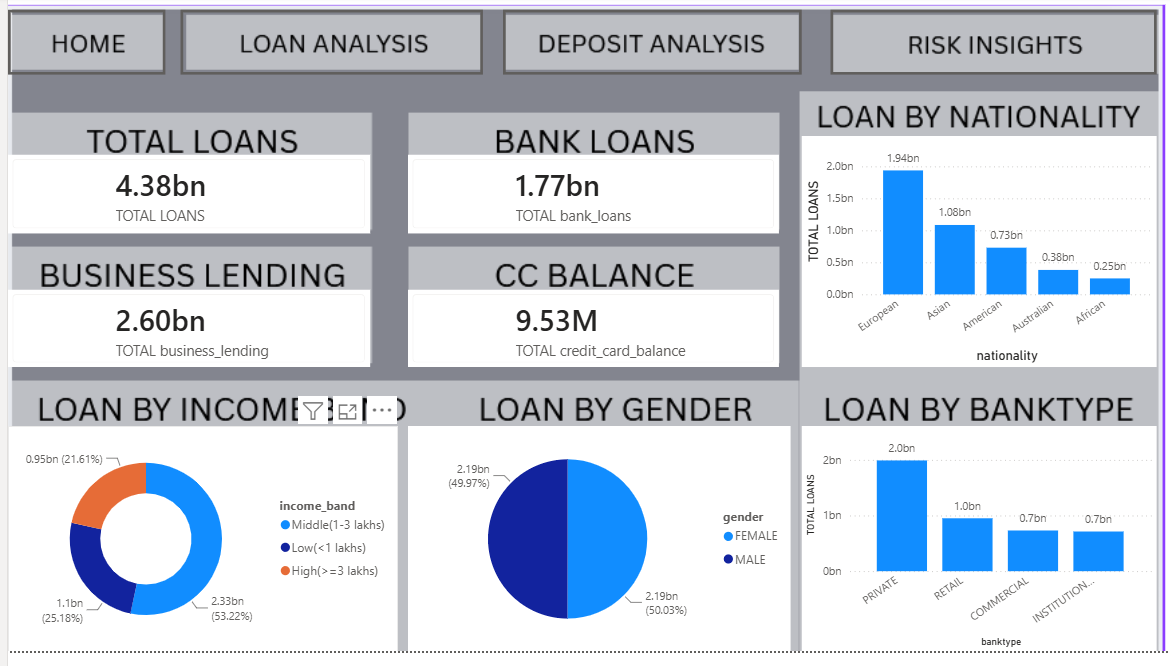

What the dashboard file says about the page in this screenshot:
{"tool":"powerbi","page":{"name":"LOAN ANALYSIS","canvas":[1280,720],"ordinal":2},"visuals":[{"type":"image","box":[0,9.6,1270.7,710.8],"z":0},{"type":"cardVisual","fields":{"Data":["public banking_data.TOTAL LOANS"]},"box":[0,174.3,397.9,86.4],"z":1000},{"type":"cardVisual","fields":{"Data":["Sum(public banking_data.bank_loans)"]},"box":[439.1,174.3,407.5,86.4],"z":2000},{"type":"cardVisual","fields":{"Data":["Sum(public banking_data.business_lending)"]},"box":[0,322.5,397.9,85.1],"z":3000},{"type":"cardVisual","fields":{"Data":["Sum(public banking_data.credit_card_balance)"]},"box":[439.1,322.5,407.5,85.1],"z":4000},{"type":"actionButton","box":[0,15.1,172.9,71.4],"z":5000},{"type":"clusteredColumnChart","fields":{"Category":["public banking_data.nationality"],"Y":["public banking_data.TOTAL LOANS"]},"box":[871.4,153.7,389.7,253.9],"z":6000},{"type":"donutChart","fields":{"Category":["public banking_data.income_band"],"Y":["public banking_data.TOTAL LOANS"]},"box":[0,472,428.1,248.4],"z":7000},{"type":"pieChart","fields":{"Category":["public banking_data.gender"],"Y":["public banking_data.TOTAL LOANS"]},"box":[439.1,472,419.9,248.4],"z":8000},{"type":"clusteredColumnChart","fields":{"Category":["public banking_data.banktype"],"Y":["public banking_data.TOTAL LOANS"]},"box":[871.4,472,389.7,248.4],"z":9000},{"type":"actionButton","box":[189.4,15.1,332.1,71.4],"z":10000},{"type":"actionButton","box":[543.4,15.1,328,71.4],"z":11000},{"type":"actionButton","box":[902.9,15.1,358.1,71.4],"z":12000}]}

Visuals, with their boxes in screenshot pixels (x1, y1, x2, y2), scaled from the page's 1280x720 canvas onto the 1170x666 screenshot:
image: [0, 9, 1161, 665]
cardVisual - public banking_data.TOTAL LOANS: [0, 161, 364, 241]
cardVisual - Sum(public banking_data.bank_loans): [401, 161, 774, 241]
cardVisual - Sum(public banking_data.business_lending): [0, 298, 364, 377]
cardVisual - Sum(public banking_data.credit_card_balance): [401, 298, 774, 377]
actionButton: [0, 14, 158, 80]
clusteredColumnChart - public banking_data.nationality x public banking_data.TOTAL LOANS: [797, 142, 1153, 377]
donutChart - public banking_data.income_band x public banking_data.TOTAL LOANS: [0, 437, 391, 665]
pieChart - public banking_data.gender x public banking_data.TOTAL LOANS: [401, 437, 785, 665]
clusteredColumnChart - public banking_data.banktype x public banking_data.TOTAL LOANS: [797, 437, 1153, 665]
actionButton: [173, 14, 477, 80]
actionButton: [497, 14, 797, 80]
actionButton: [825, 14, 1153, 80]
